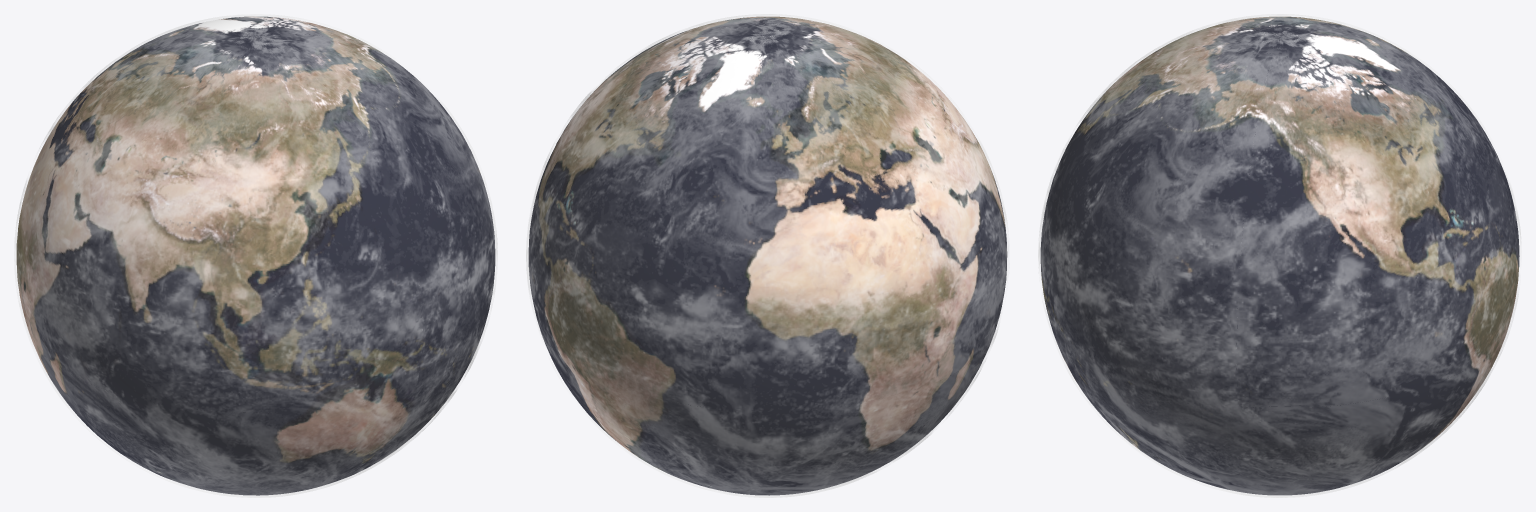
File: planet_earth_optimized.glb
3 views of the same model, side by side, from view 1: azimuth 30°, elevation 25°; view 2: azimuth 150°, elevation 25°; view 3: azimuth 270°, elevation 25° (orthographic).
Parts seen in each view (by area): view 1: Earth_Diffuse_6K, Earth_Diffuse_6K.001; view 2: Earth_Diffuse_6K, Earth_Diffuse_6K.001; view 3: Earth_Diffuse_6K, Earth_Diffuse_6K.001.
Boxes of the visible parts, bbox=[...] form: Earth_Diffuse_6K: bbox=[16, 16, 495, 495]; Earth_Diffuse_6K.001: bbox=[14, 14, 497, 497]; Earth_Diffuse_6K: bbox=[528, 16, 1007, 495]; Earth_Diffuse_6K.001: bbox=[526, 14, 1009, 497]; Earth_Diffuse_6K: bbox=[1040, 16, 1519, 495]; Earth_Diffuse_6K.001: bbox=[1038, 14, 1521, 497].
Size of the model in its own units: 275 by 275 by 275.
Materials: 2 (2 with a texture image).
